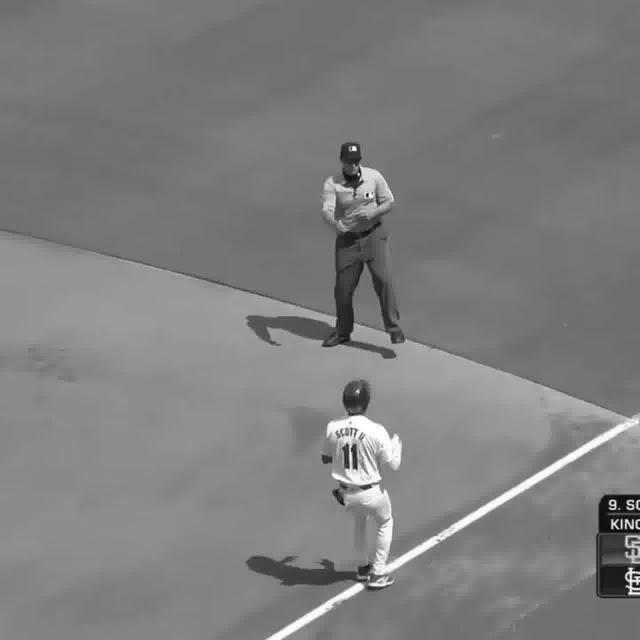shoe: (364, 569, 398, 592), (356, 558, 379, 581)
